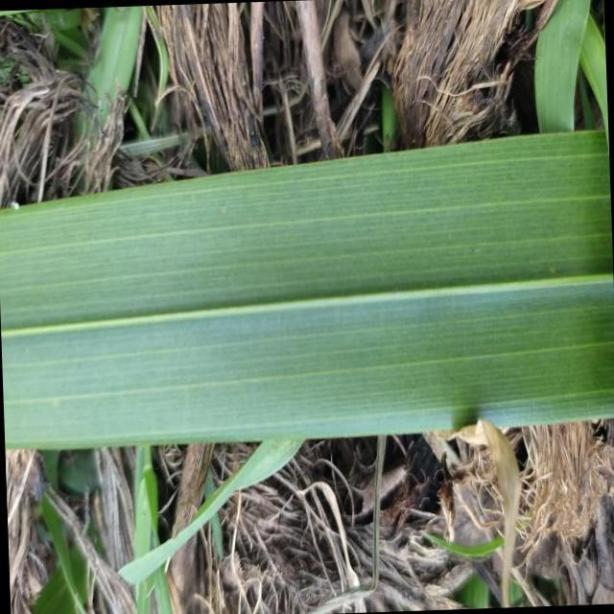Healthy: (0, 130, 614, 454)
